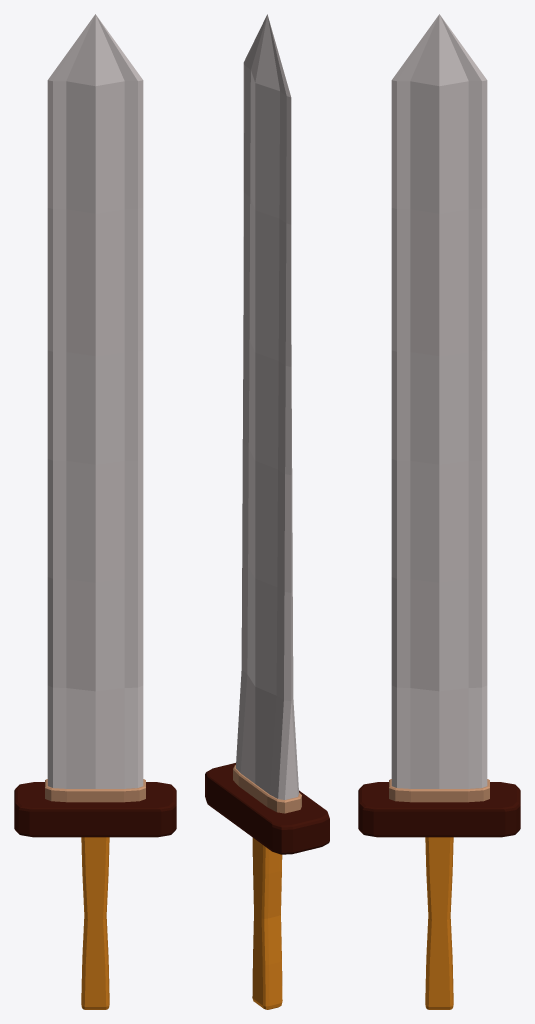
Rendered from SimpleGreatSword.fbx.
3 renders of one model, left to right at view 1: azimuth 90°, elevation 25°; view 2: azimuth 210°, elevation 25°; view 3: azimuth 270°, elevation 25°, orthographic.
Parts seen in each view (by area): view 1: SimpleGreatSword; view 2: SimpleGreatSword; view 3: SimpleGreatSword.
Boxes of the visible parts, <box> form: SimpleGreatSword: <box>14,14,176,1009</box>; SimpleGreatSword: <box>205,14,329,1009</box>; SimpleGreatSword: <box>358,14,520,1009</box>.
Size of the model in its own units: 6.48 by 110 by 16.31.
